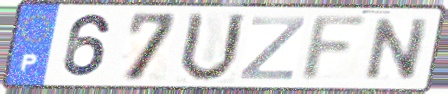6: (61, 12, 112, 82)
7: (124, 10, 182, 84)
F: (296, 13, 374, 85)
N: (360, 16, 434, 83)
U: (175, 10, 248, 86)
Z: (236, 15, 309, 82)
